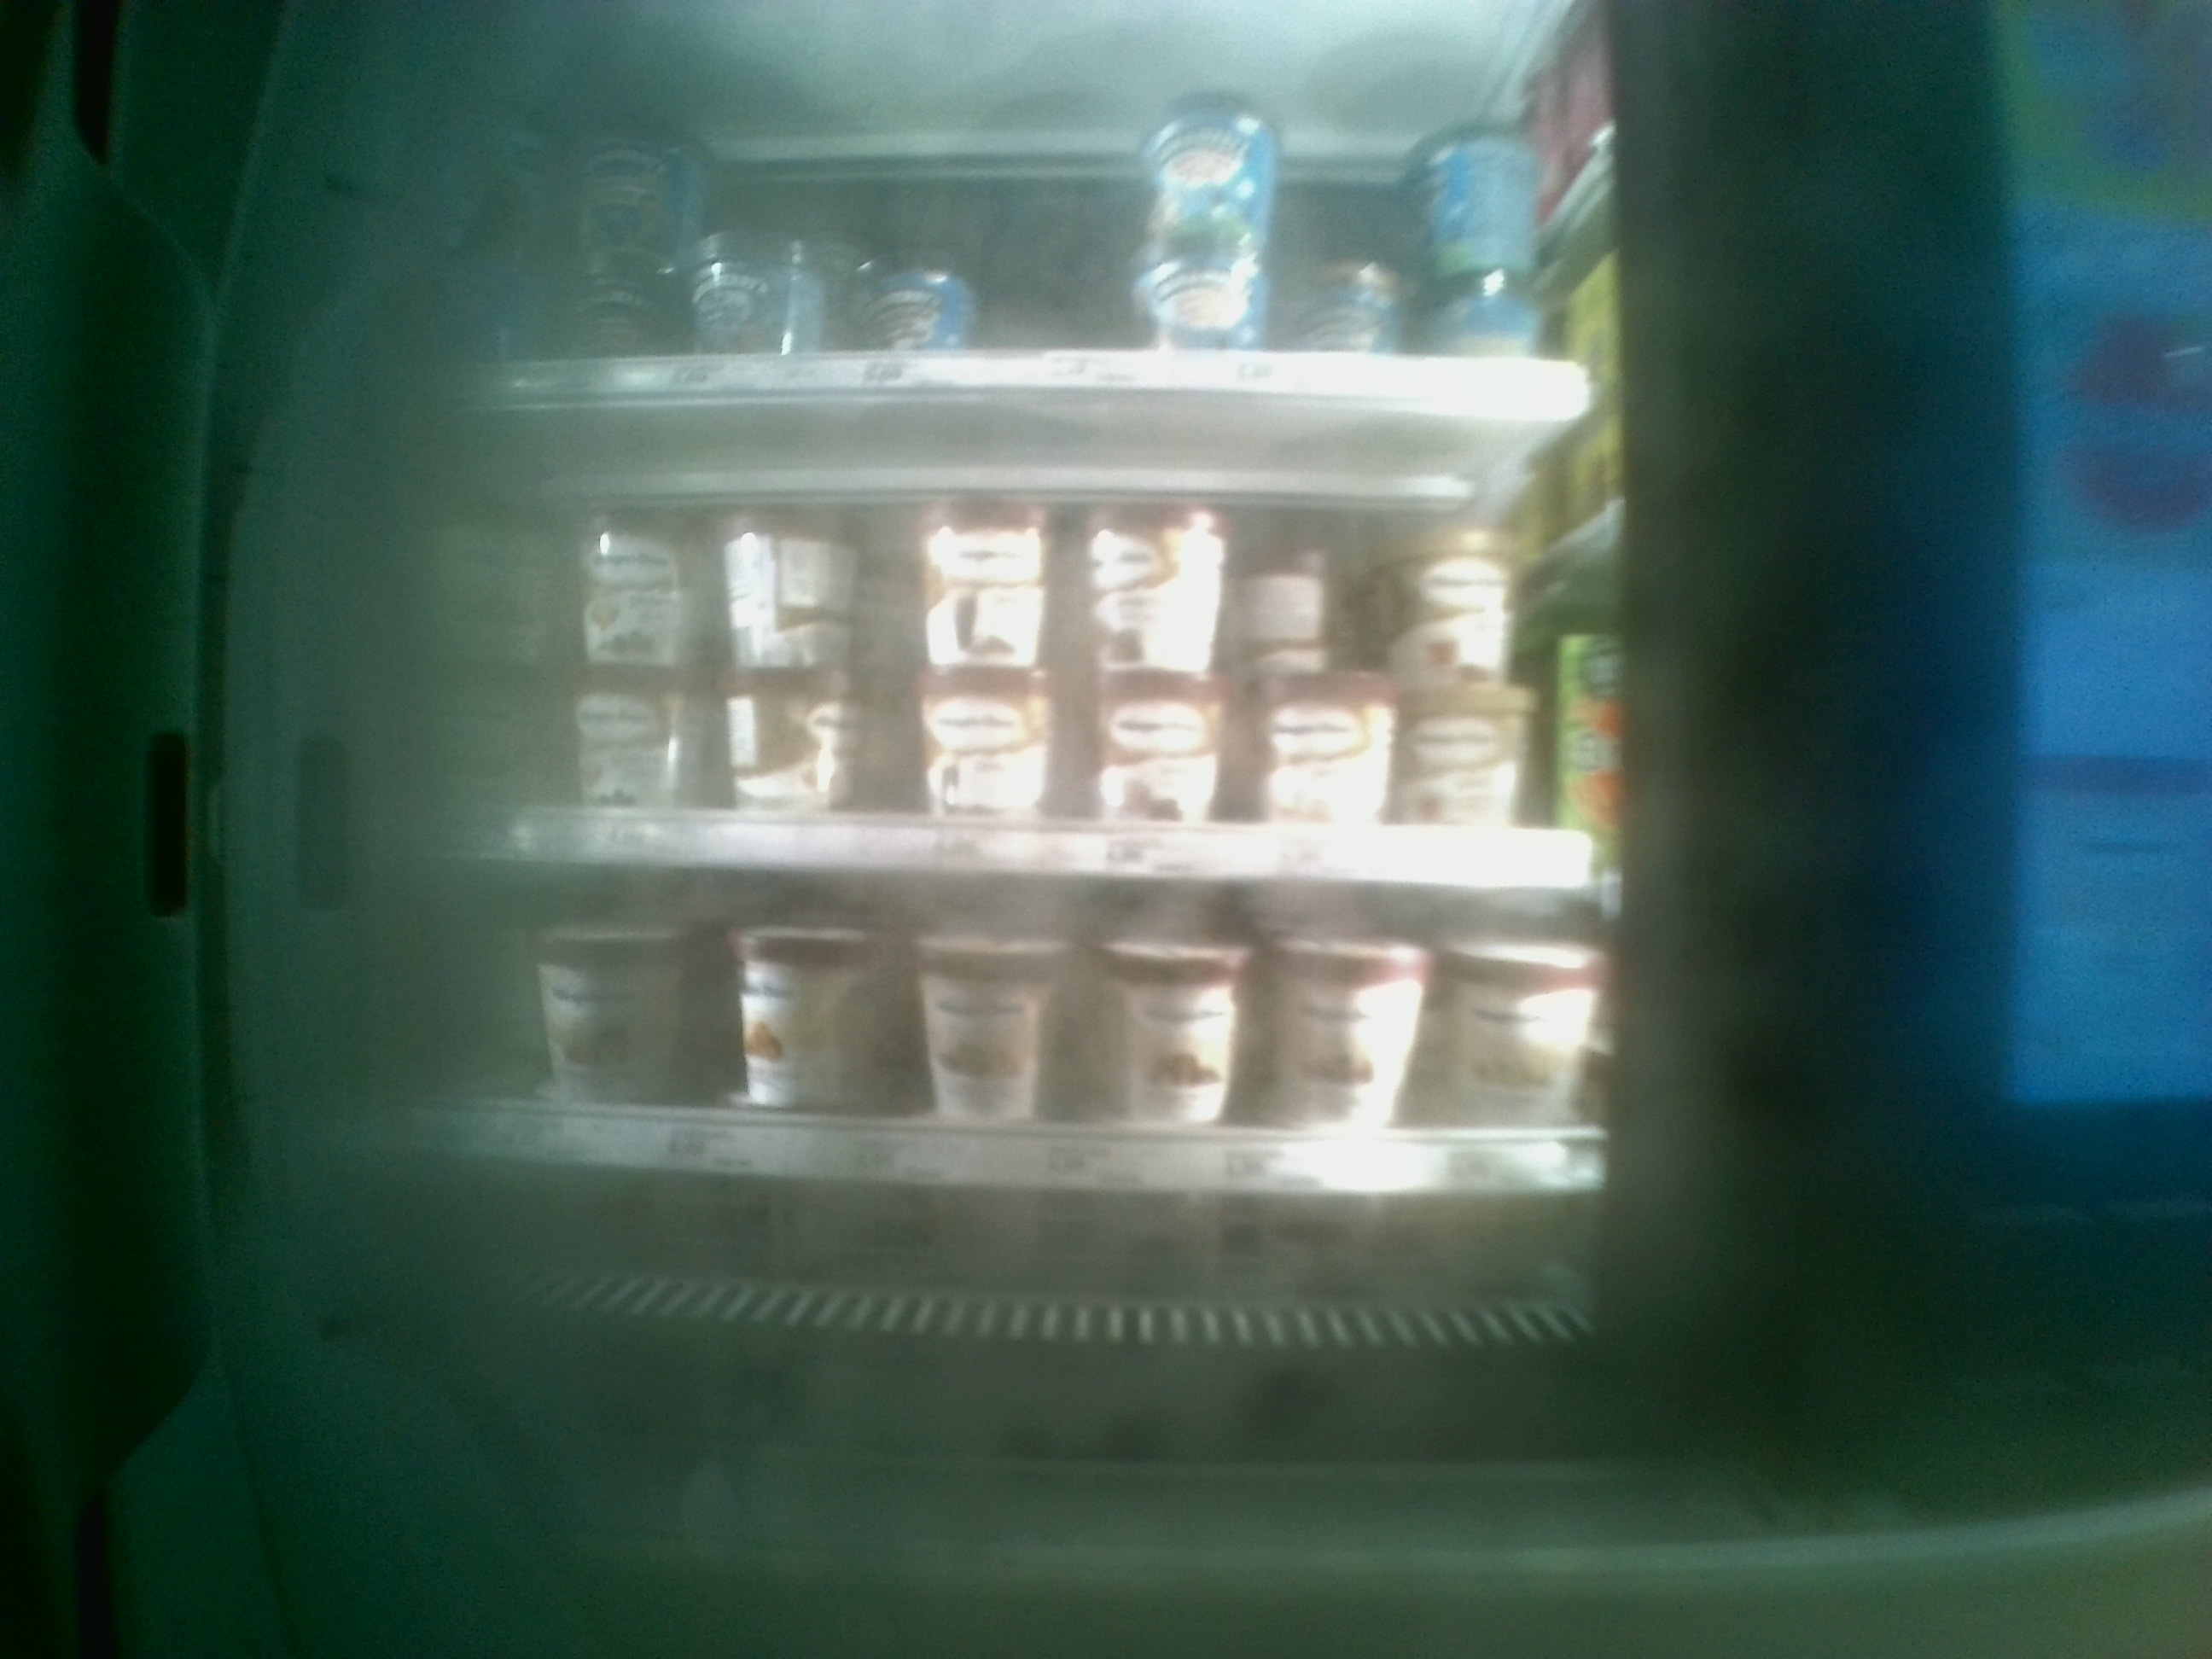shelf: (465, 413, 1615, 878), (451, 877, 1609, 1300)
